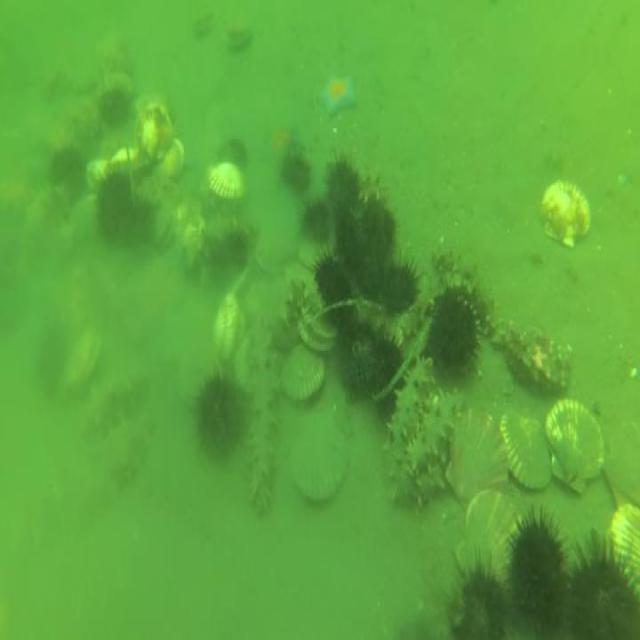echinus: (503, 502, 569, 629), (565, 532, 639, 640), (446, 551, 509, 640), (194, 371, 244, 460), (337, 316, 387, 405), (95, 171, 133, 243), (323, 152, 361, 221), (357, 193, 398, 253), (315, 256, 353, 319), (378, 256, 421, 311), (49, 144, 86, 207), (36, 335, 70, 398), (122, 193, 157, 248), (332, 215, 366, 270), (300, 196, 334, 242), (358, 253, 388, 305), (280, 148, 314, 192), (224, 228, 251, 270), (216, 134, 247, 168)
holothurian: (428, 237, 502, 346), (246, 314, 276, 520), (399, 387, 460, 477), (388, 351, 437, 463), (80, 372, 147, 451), (95, 414, 156, 496), (388, 286, 432, 345), (407, 461, 452, 509), (202, 210, 252, 242)
scallop: (452, 481, 524, 586), (541, 389, 607, 501), (286, 409, 355, 514), (445, 398, 511, 506), (498, 405, 553, 493), (539, 172, 593, 256), (606, 493, 640, 599), (277, 348, 328, 408), (293, 298, 339, 356), (67, 326, 104, 394), (134, 100, 174, 161), (213, 289, 242, 364), (207, 161, 249, 204), (153, 136, 187, 185), (218, 14, 256, 52), (297, 235, 335, 272), (232, 336, 254, 396), (190, 0, 220, 43), (109, 141, 142, 177), (84, 156, 110, 196)
starfish: (258, 120, 302, 171), (318, 65, 358, 118)
